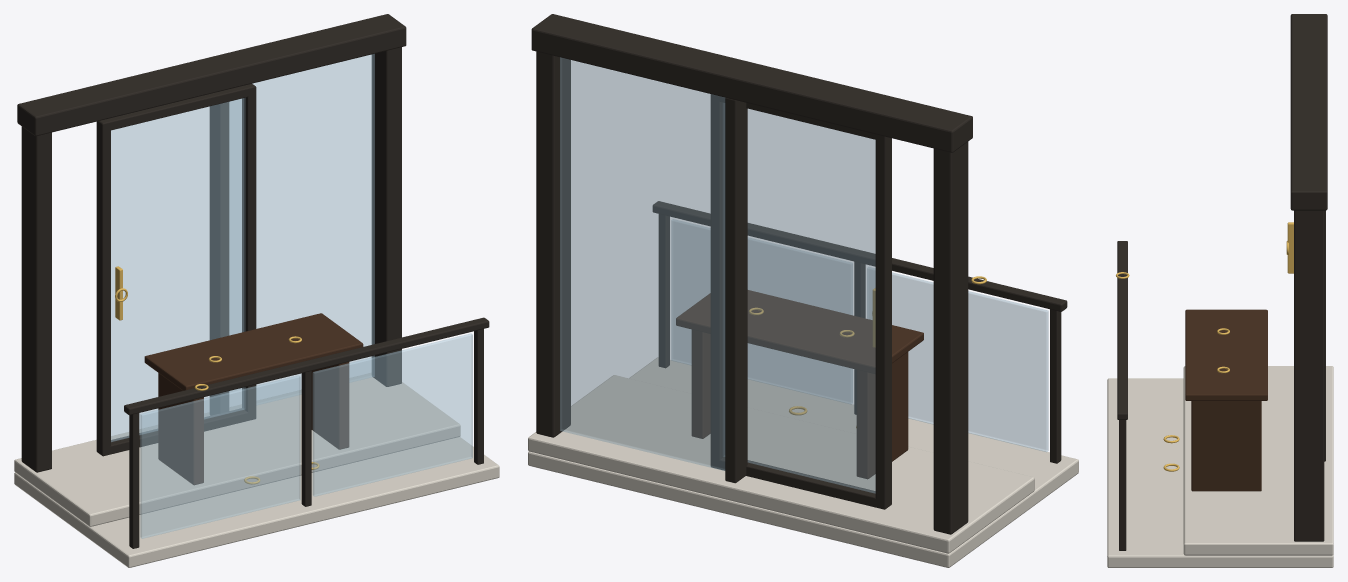
File: webtoon-articulated-modern-sliding-terrace-v20.glb
3 renders of one model, left to right at view 1: azimuth 30°, elevation 25°; view 2: azimuth 150°, elevation 25°; view 3: azimuth 270°, elevation 25°, orthographic. The views are drawn at different scales.
Parts seen in each view (by area): view 1: ModernV20_ArchitecturalGlass, ModernV20_FixedCurtainFrame, ModernV20_DatumDeck, ModernV20_WalnutDesk, Articulated_SlidingDoorFrame, ModernV20_IkSocketAnchors; view 2: ModernV20_ArchitecturalGlass, ModernV20_FixedCurtainFrame, ModernV20_DatumDeck, Articulated_SlidingDoorFrame, ModernV20_WalnutDesk; view 3: ModernV20_DatumDeck, ModernV20_FixedCurtainFrame, ModernV20_WalnutDesk, ModernV20_IkSocketAnchors.
Part boxes in pixels (x1,y1,x2,y2): ModernV20_ArchitecturalGlass: [111, 54, 472, 538]; ModernV20_FixedCurtainFrame: [17, 14, 489, 548]; ModernV20_DatumDeck: [14, 373, 499, 567]; ModernV20_WalnutDesk: [144, 313, 363, 485]; Articulated_SlidingDoorFrame: [96, 83, 256, 456]; ModernV20_IkSocketAnchors: [115, 266, 319, 484]; ModernV20_ArchitecturalGlass: [560, 57, 1048, 493]; ModernV20_FixedCurtainFrame: [531, 14, 1067, 534]; ModernV20_DatumDeck: [528, 357, 1078, 567]; Articulated_SlidingDoorFrame: [710, 94, 891, 509]; ModernV20_WalnutDesk: [676, 290, 923, 479]; ModernV20_DatumDeck: [1107, 366, 1333, 567]; ModernV20_FixedCurtainFrame: [1117, 14, 1327, 550]; ModernV20_WalnutDesk: [1185, 309, 1267, 491]; ModernV20_IkSocketAnchors: [1116, 222, 1293, 471].
Bounding box in the file's own units: 2.76 × 2.72 × 1.48.
